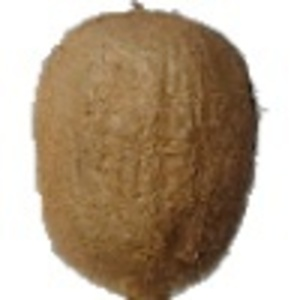kiwi: (26, 1, 262, 300)
